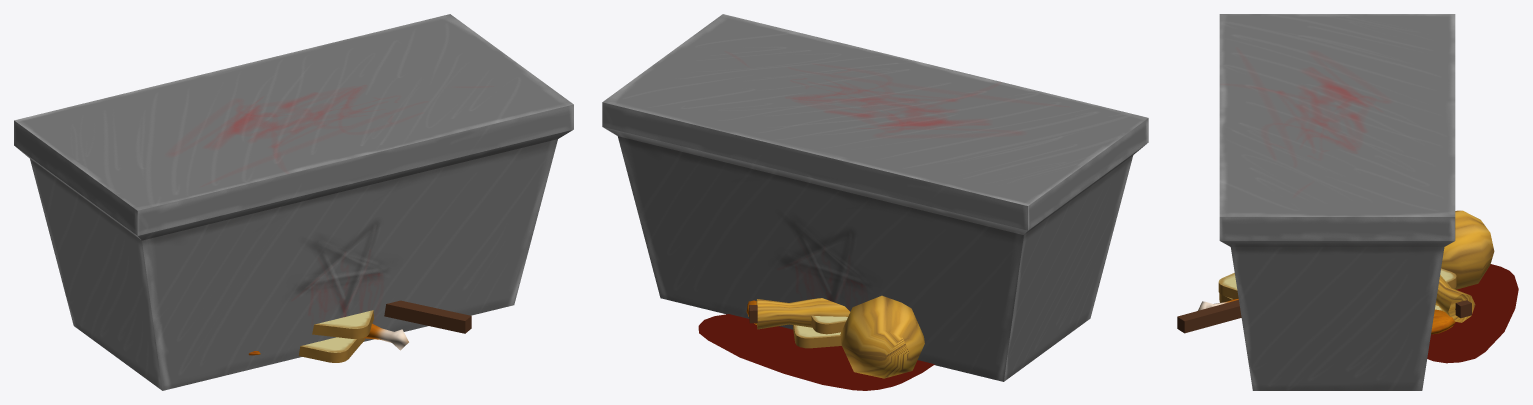
Rendered from Object Stack.fbx.
3 views of the same model, side by side, from view 1: azimuth 30°, elevation 25°; view 2: azimuth 150°, elevation 25°; view 3: azimuth 270°, elevation 25° (orthographic). The views are drawn at different scales.
Visible parts, largest first — view 1: Altar, Chicken_sandwich1, Dead_Body1; view 2: Altar, Dead_Body1, Chicken_sandwich1; view 3: Altar, Dead_Body1, Chicken_sandwich1.
Part boxes in pixels (<box>): Altar: <box>14,14,573,390</box>; Chicken_sandwich1: <box>248,310,408,362</box>; Dead_Body1: <box>384,300,471,333</box>; Altar: <box>602,14,1148,381</box>; Dead_Body1: <box>698,295,934,390</box>; Chicken_sandwich1: <box>746,300,847,348</box>; Altar: <box>1219,14,1455,390</box>; Dead_Body1: <box>1177,210,1518,363</box>; Chicken_sandwich1: <box>1198,268,1456,334</box>.
Size of the model in its own units: 2.7 by 1.26 by 1.92.
